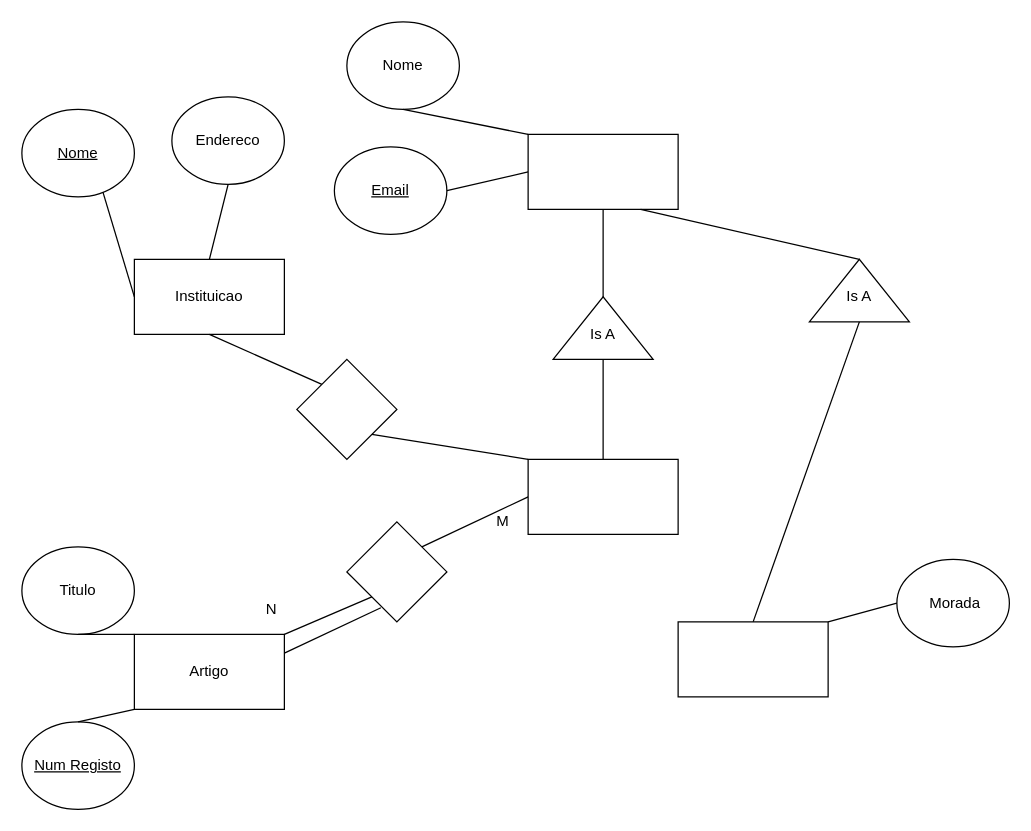
The diagram is 1031 pixels wide and 831 high, and some of its shapes have lost their labels. Each missing label, with the box of its shape:
Autor: (527, 458, 678, 534)
Participante: (677, 621, 828, 697)
Pertence: (296, 358, 397, 459)
Pessoa: (527, 133, 678, 209)
Tem: (346, 521, 447, 622)
